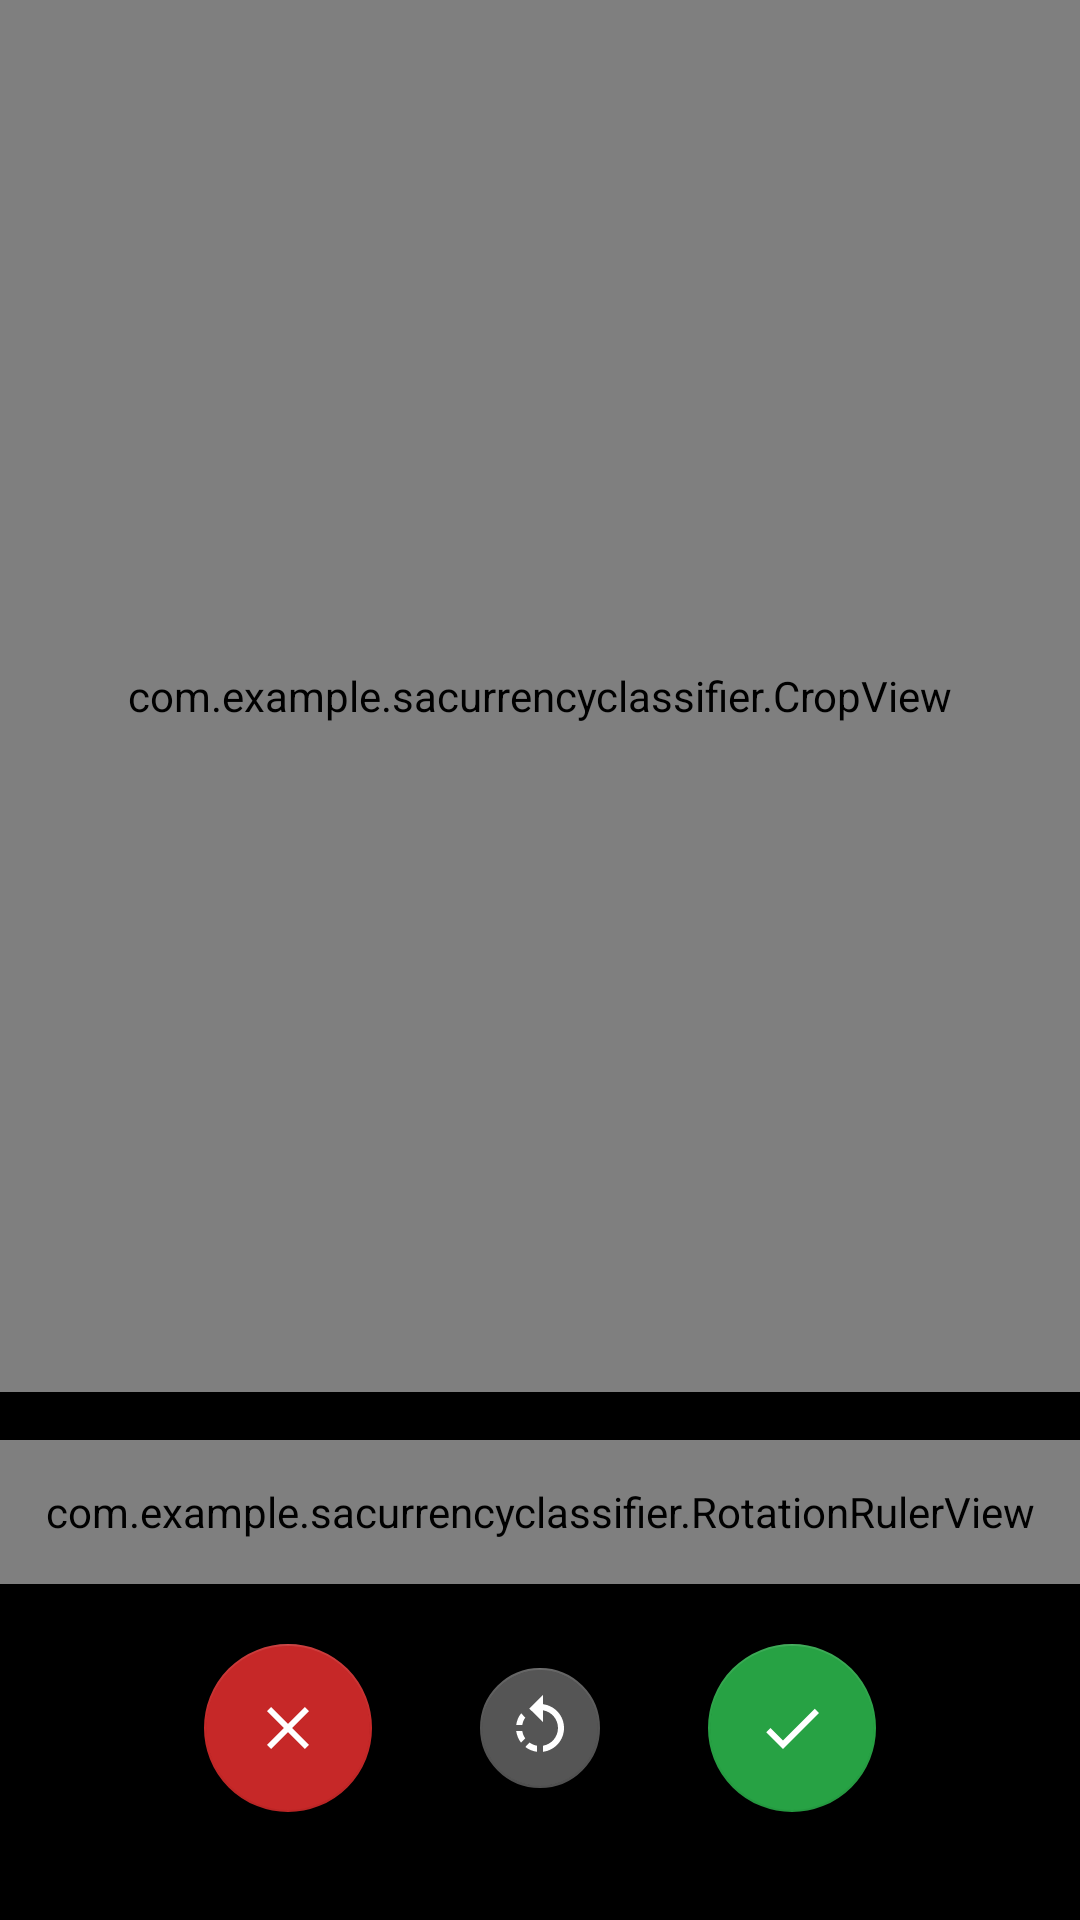

Point at icon controls on the screen. Image size 1080x1920, points as point (x, y).
check: point (792, 1728)
close: point (288, 1728)
rotate: point (540, 1728)
